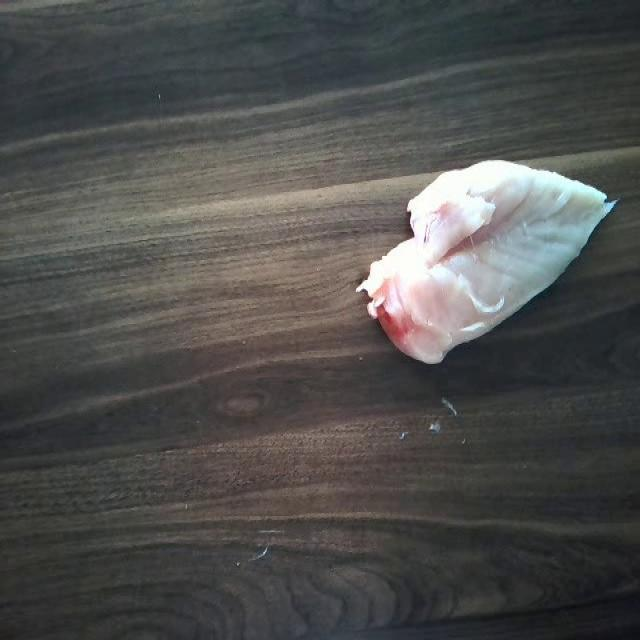breast: (342, 154, 619, 376)
